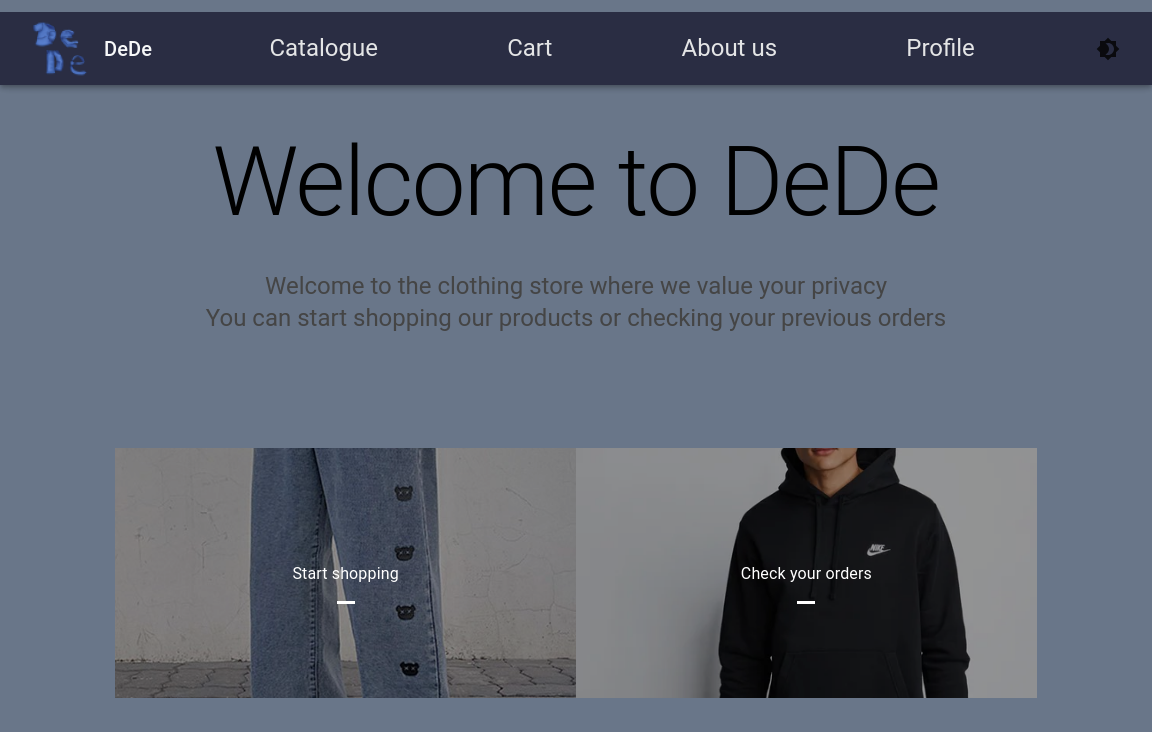
Test case: clicking on the profile menuitem takes the user to login page
This screenshot has width=1152, height=732.
Click the button with aria-label "account of current user".
click(940, 48)  # box [894,20,987,76]
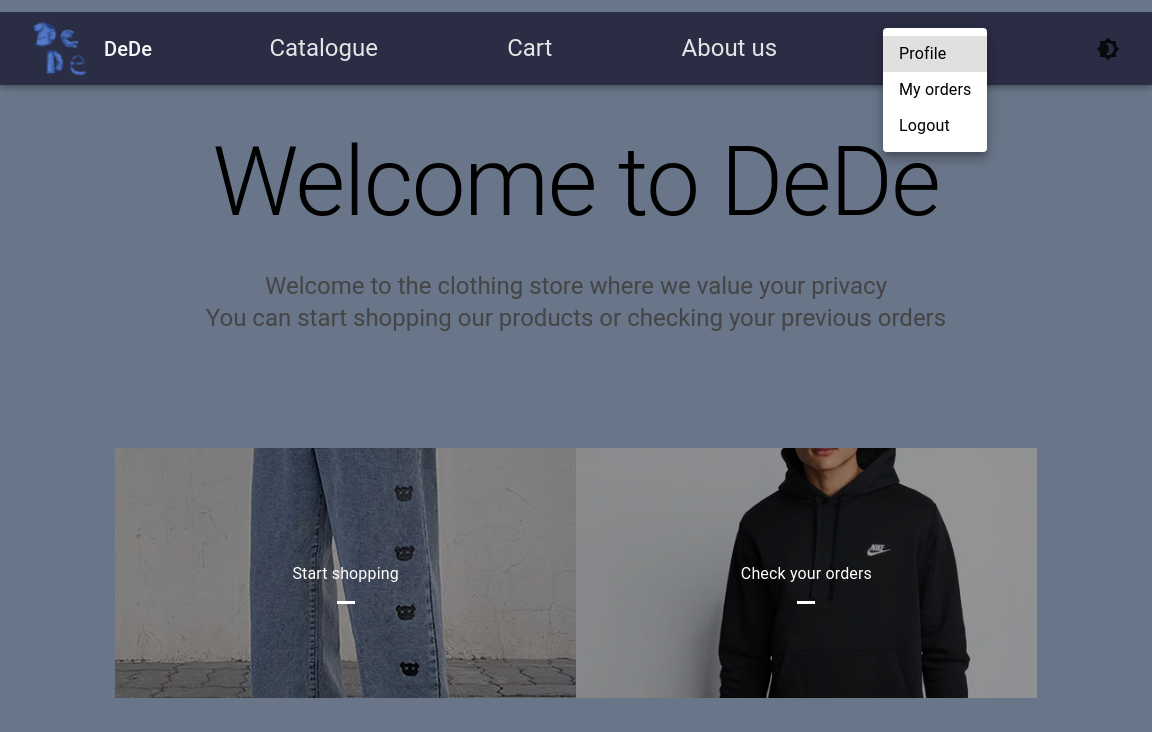
Expected: the menu item "Profile" is shown
Click the menu item "Profile".
click(935, 54)  # box [883,36,988,72]
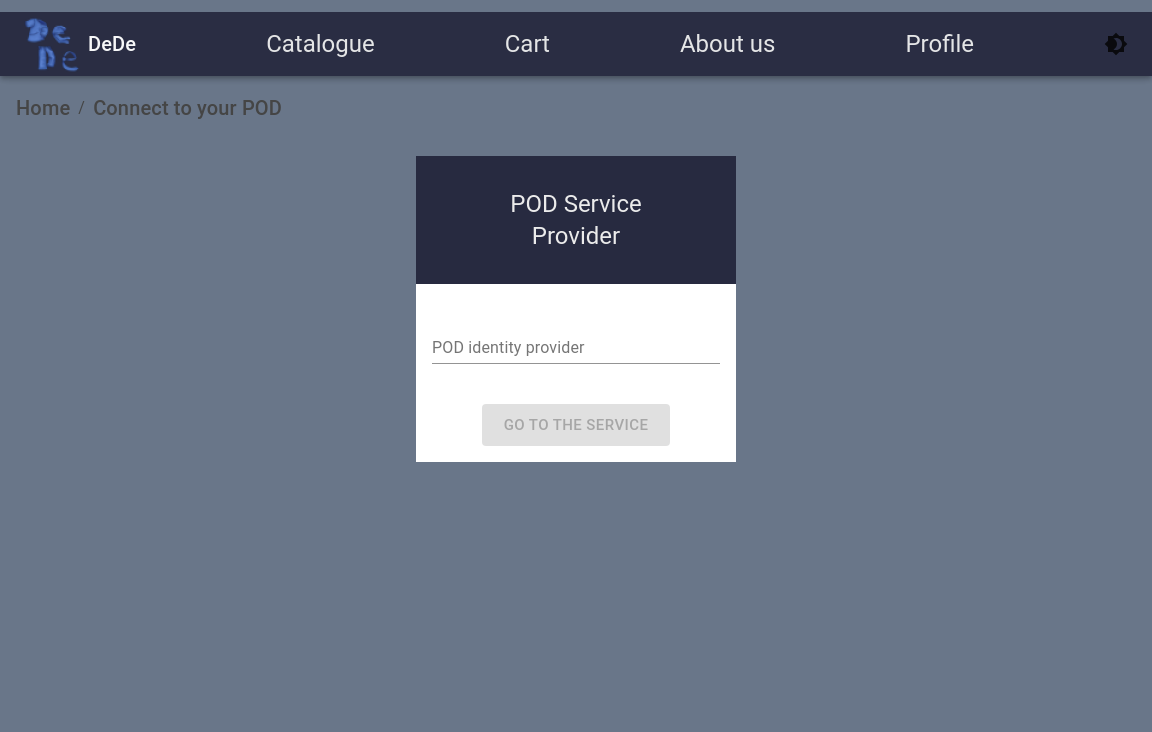
Expected: the heading "POD Service Provider" is shown, [510,190,642,250]
